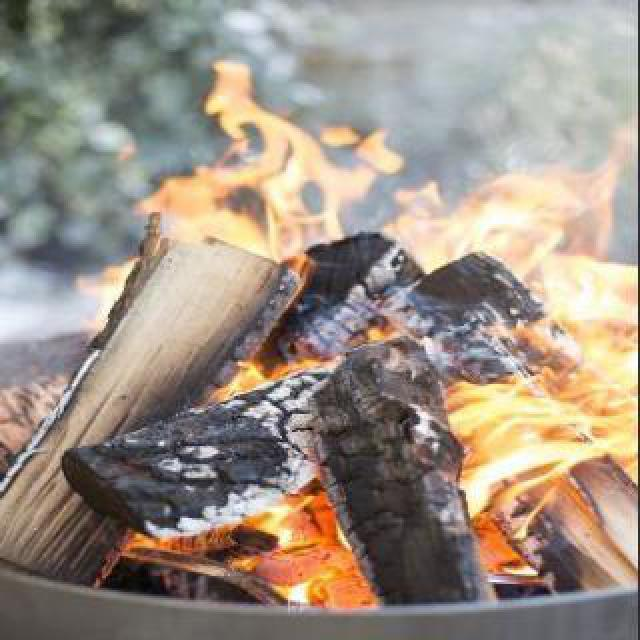Fire: (108, 58, 616, 574)
